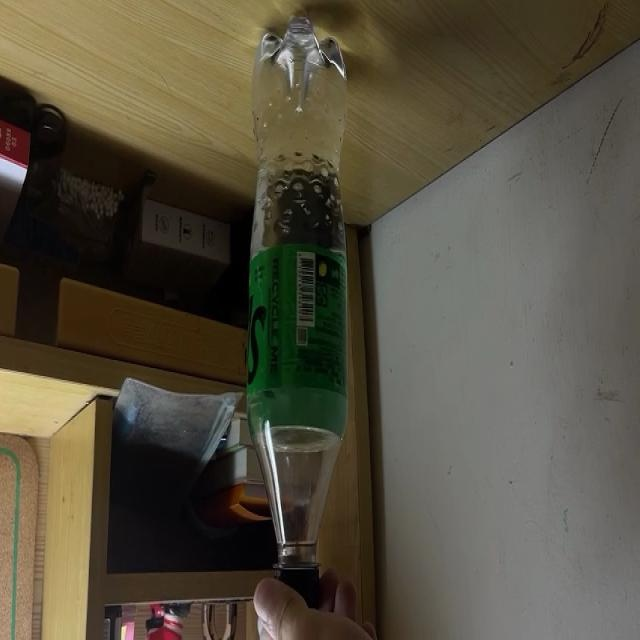Sprite: (249, 15, 348, 610)
